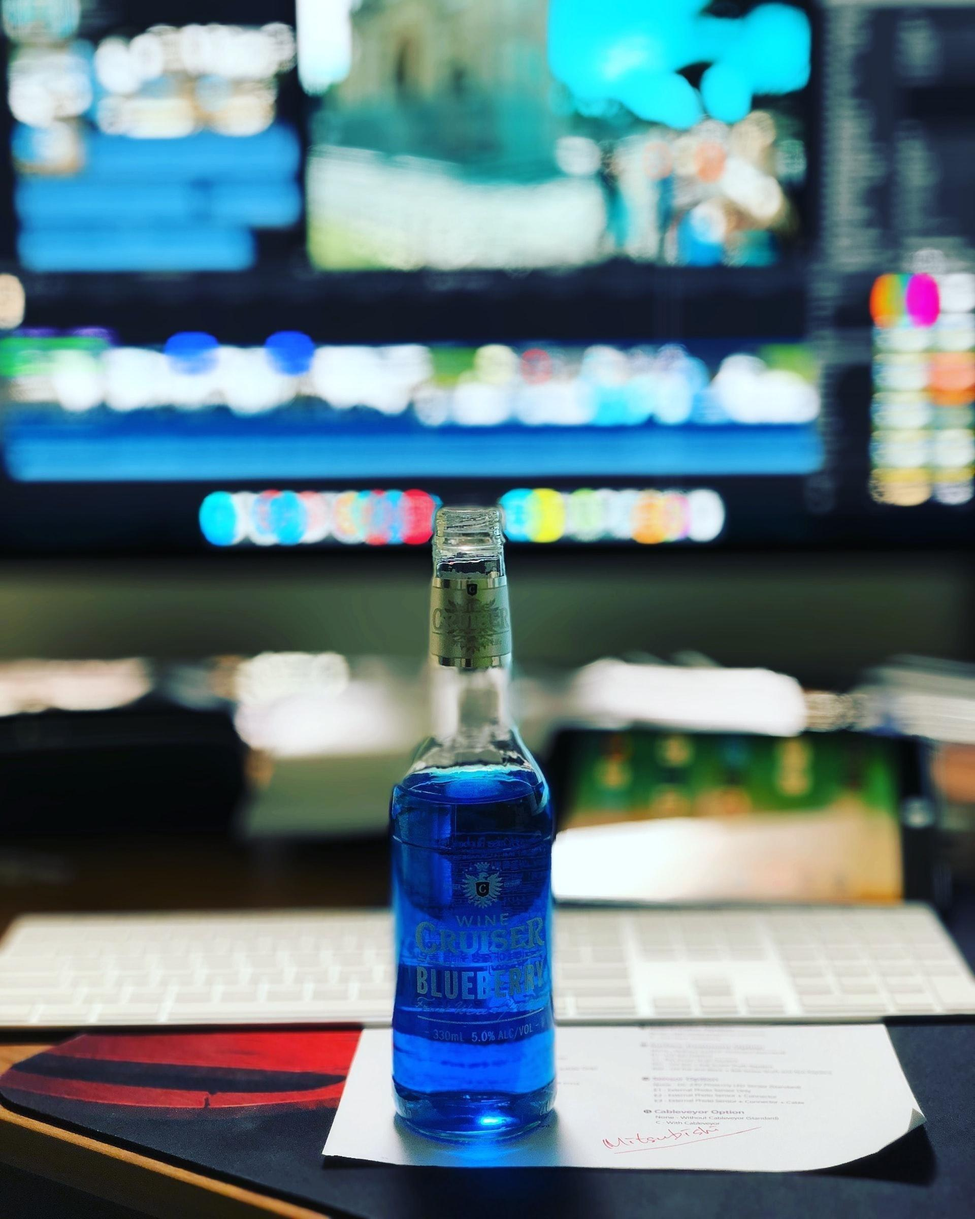bottle-glass: (385, 498, 567, 1155)
